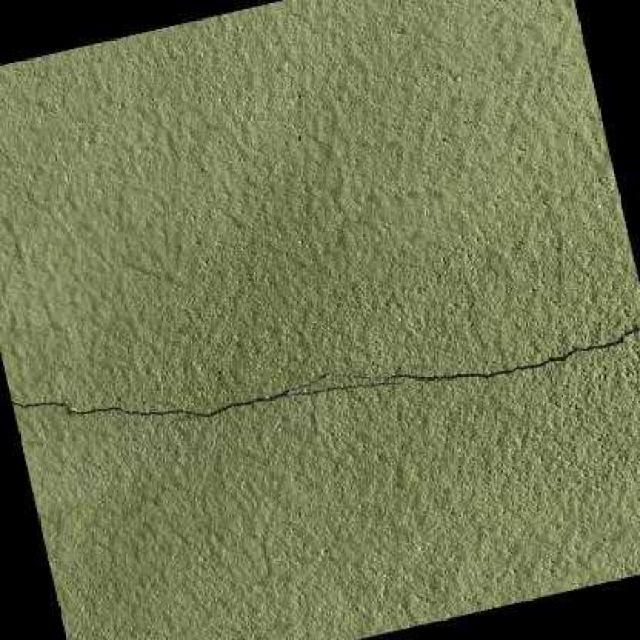D00: (10, 371, 405, 419), (340, 322, 640, 382)
